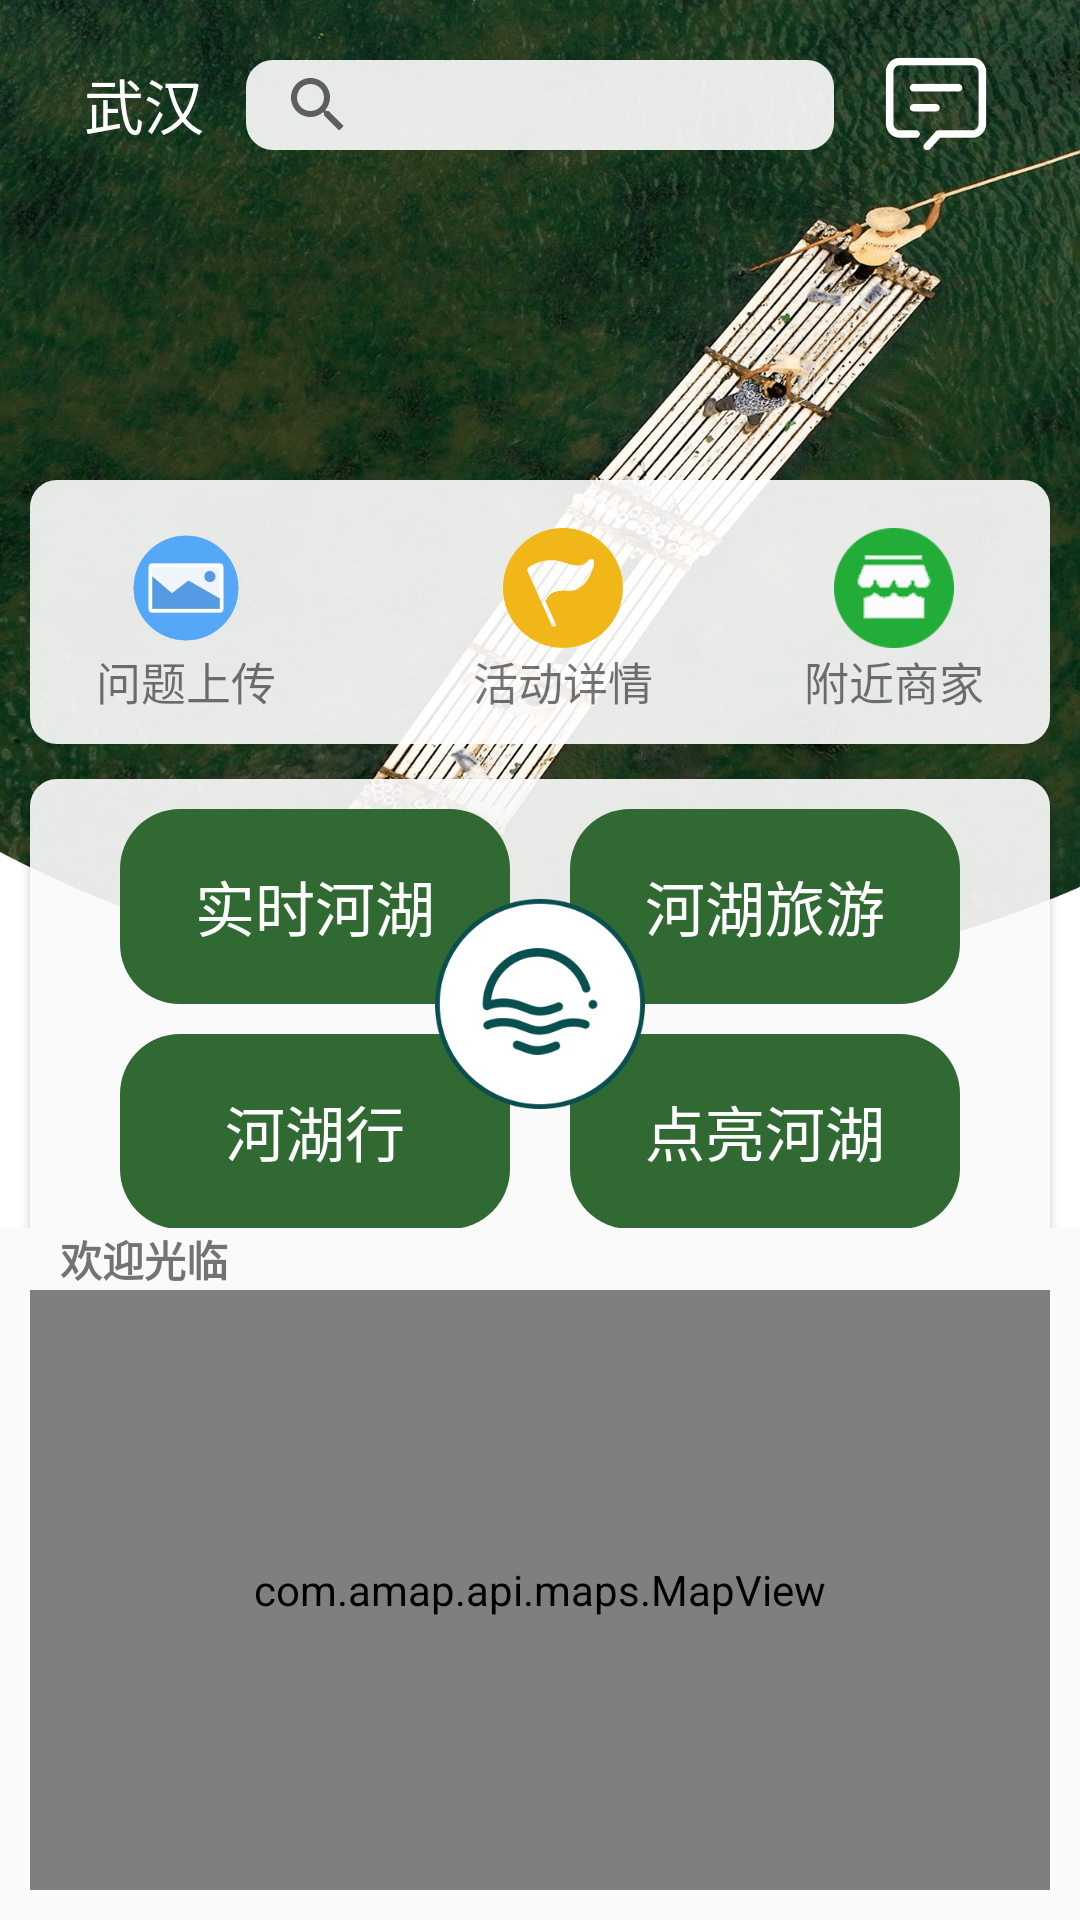

Screen size 1080w x 1920h. Icon name, then its center in pixels as (x=x, y=y):
notice line: (x=936, y=104)
